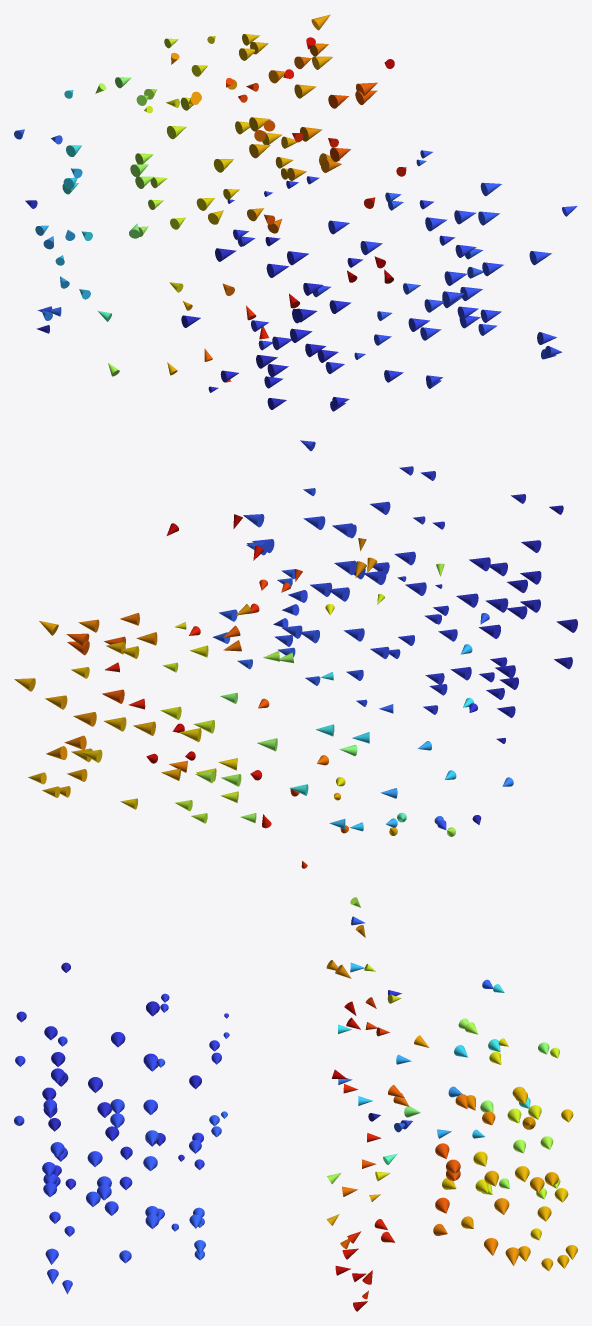
The model's file is LineasCorrienteN2-H2O_mh2-6.88_V-0.9.glb.
3 renders of one model, top to bottom at view 1: azimuth 30°, elevation 25°; view 2: azimuth 150°, elevation 25°; view 3: azimuth 270°, elevation 25°, orthographic.
Bounding box in the file's own units: 0.000977 × 0.000812 × 0.0012.
2 materials, 2 textured.
